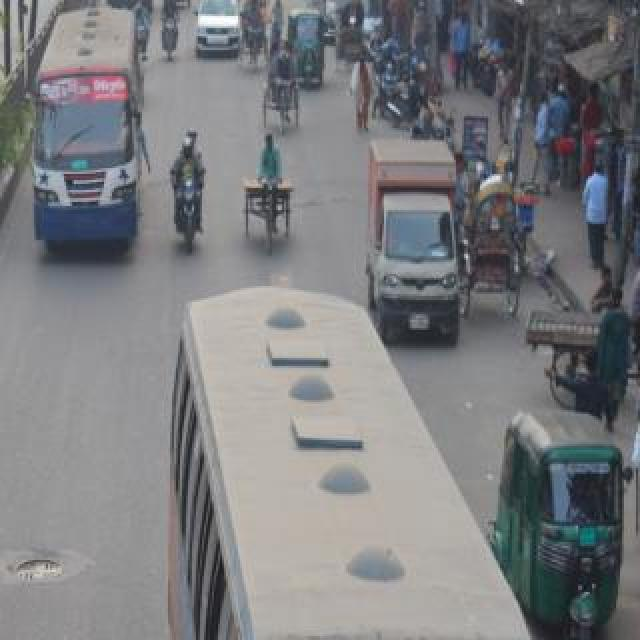bus: (156, 246, 574, 640), (9, 0, 155, 262)
car: (184, 0, 250, 66), (324, 0, 388, 42)
motorbike: (345, 14, 433, 124), (166, 105, 220, 265), (364, 60, 432, 122), (409, 92, 463, 156), (140, 0, 182, 76), (122, 0, 154, 76)
van: (341, 107, 485, 363)
